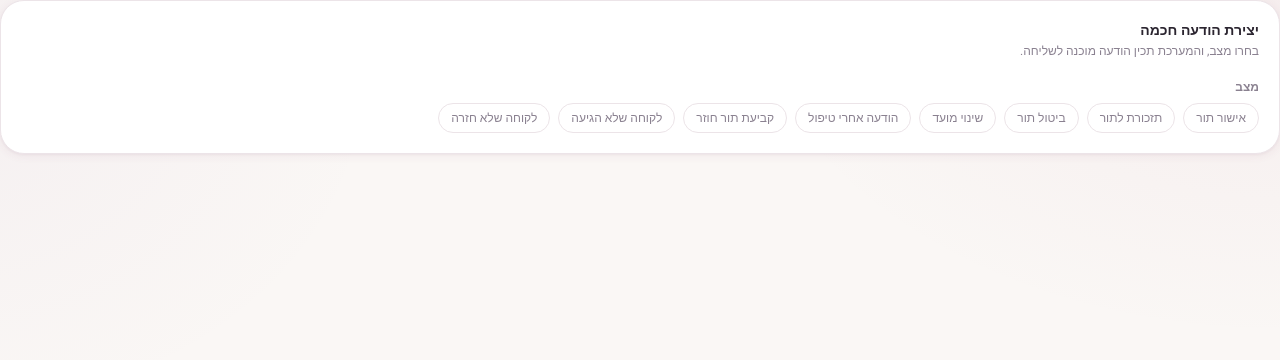
Scenario: SmartComposer › shows missing-context message for a booking scenario before a booking is picked
Step 1. Click the button "אישור תור" → (1221, 118), box [1183, 103, 1259, 133]
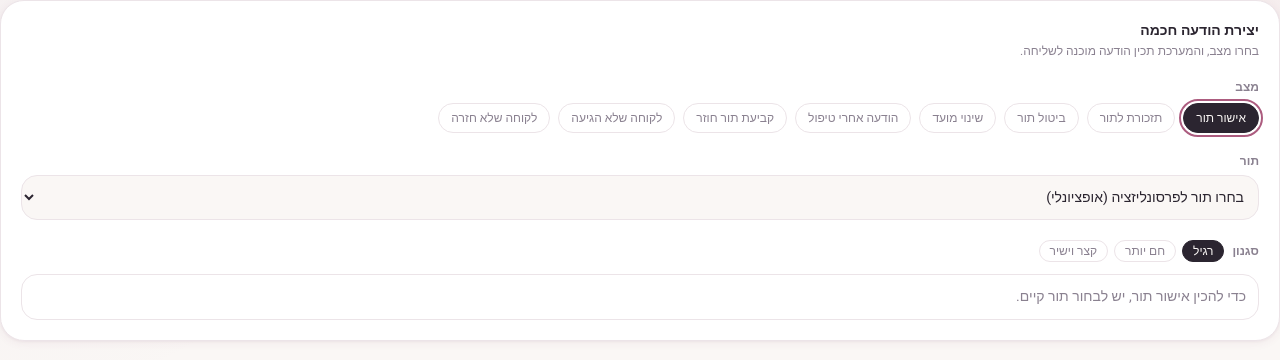
Expected: the text "תור" is shown, [1240, 152, 1259, 170]
Expected: the text "כדי להכין אישור תור, יש לבחור תור קיים." is shown, [1016, 286, 1246, 307]
